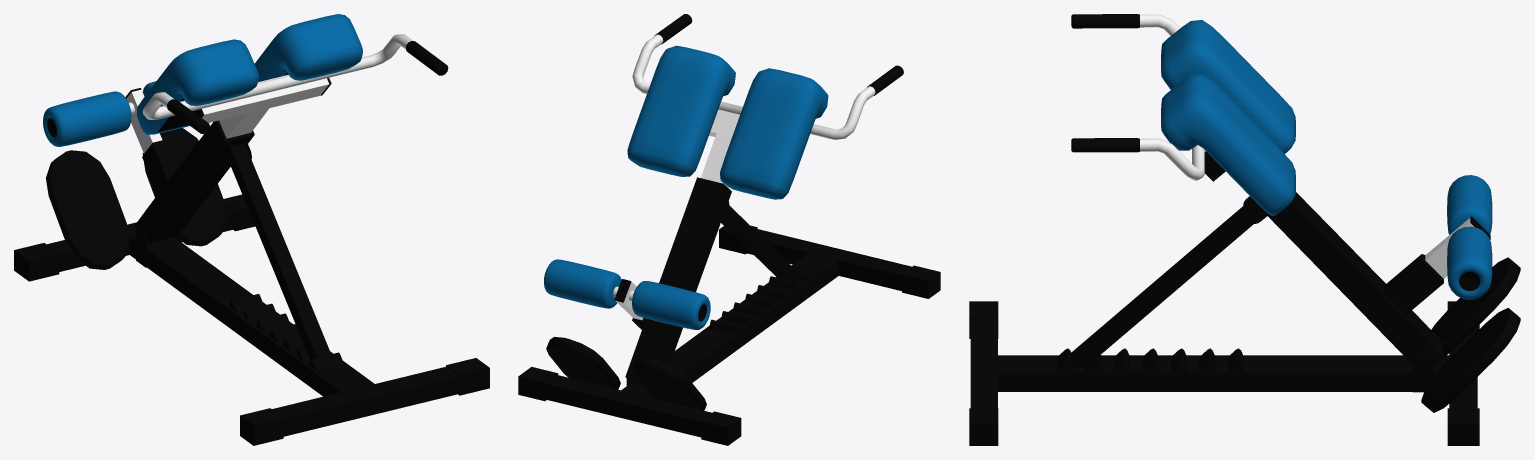
Rendered from BackExtension.fbx.
3 renders of one model, left to right at view 1: azimuth 30°, elevation 25°; view 2: azimuth 150°, elevation 25°; view 3: azimuth 270°, elevation 25°, orthographic. The views are drawn at different scales.
Visible parts, largest first — view 1: MachineBase, MachineBase.002, Cube, Plane, Plane.001, MachineBase.005, Cylinder, MachineBase.007, Cube.001; view 2: MachineBase, Plane, Plane.001, MachineBase.002, MachineBase.007, Cylinder, Cube, Cube.001, MachineBase.005; view 3: MachineBase, MachineBase.002, Plane.001, Plane, MachineBase.007, MachineBase.005, Cube.001, Cylinder, Cube.
Part boxes in pixels (<box>): MachineBase: <box>14,194,489,445</box>; MachineBase.002: <box>125,75,331,243</box>; Cube: <box>46,150,129,269</box>; Plane: <box>136,39,258,134</box>; Plane.001: <box>254,14,362,81</box>; MachineBase.005: <box>231,143,330,359</box>; Cylinder: <box>142,34,448,133</box>; MachineBase.007: <box>43,81,156,146</box>; Cube.001: <box>142,128,226,246</box>; MachineBase: <box>518,225,940,445</box>; Plane: <box>720,68,828,199</box>; Plane.001: <box>627,45,735,176</box>; MachineBase.002: <box>614,109,739,383</box>; MachineBase.007: <box>544,259,710,329</box>; Cylinder: <box>632,14,903,139</box>; Cube: <box>632,358,706,410</box>; Cube.001: <box>546,337,620,389</box>; MachineBase.005: <box>721,205,801,282</box>; MachineBase: <box>969,301,1479,445</box>; MachineBase.002: <box>1204,150,1490,364</box>; Plane.001: <box>1161,74,1295,215</box>; Plane: <box>1161,20,1295,153</box>; MachineBase.007: <box>1447,175,1492,299</box>; MachineBase.005: <box>1070,199,1253,367</box>; Cube.001: <box>1421,308,1520,412</box>; Cylinder: <box>1071,14,1204,180</box>; Cube: <box>1431,257,1520,355</box>.
Size of the model in its own units: 64.74 by 75.31 by 116.
